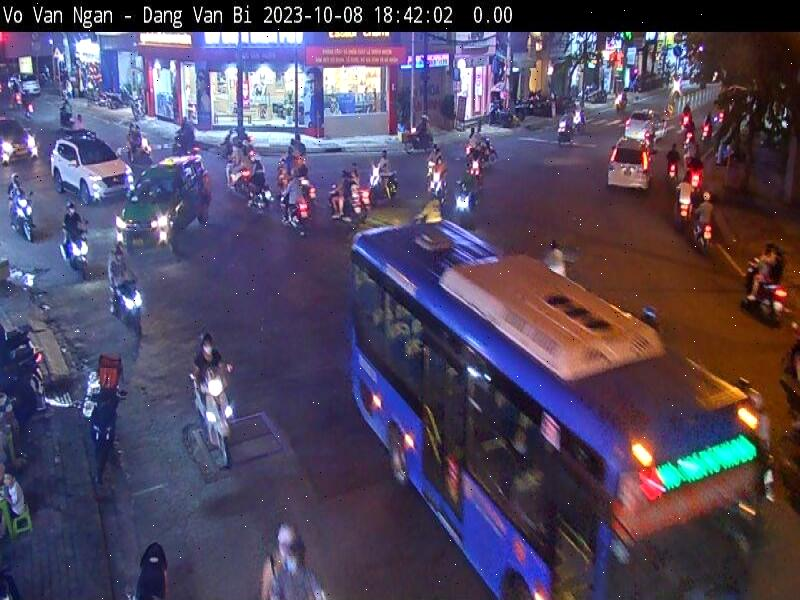bus: (346, 217, 770, 600)
car: (114, 156, 213, 255), (50, 133, 136, 206), (607, 136, 651, 193), (0, 117, 40, 167), (626, 109, 669, 144), (8, 73, 42, 98)
motorcycle: (188, 373, 234, 469), (90, 379, 125, 487), (135, 540, 169, 600), (112, 281, 144, 339)
